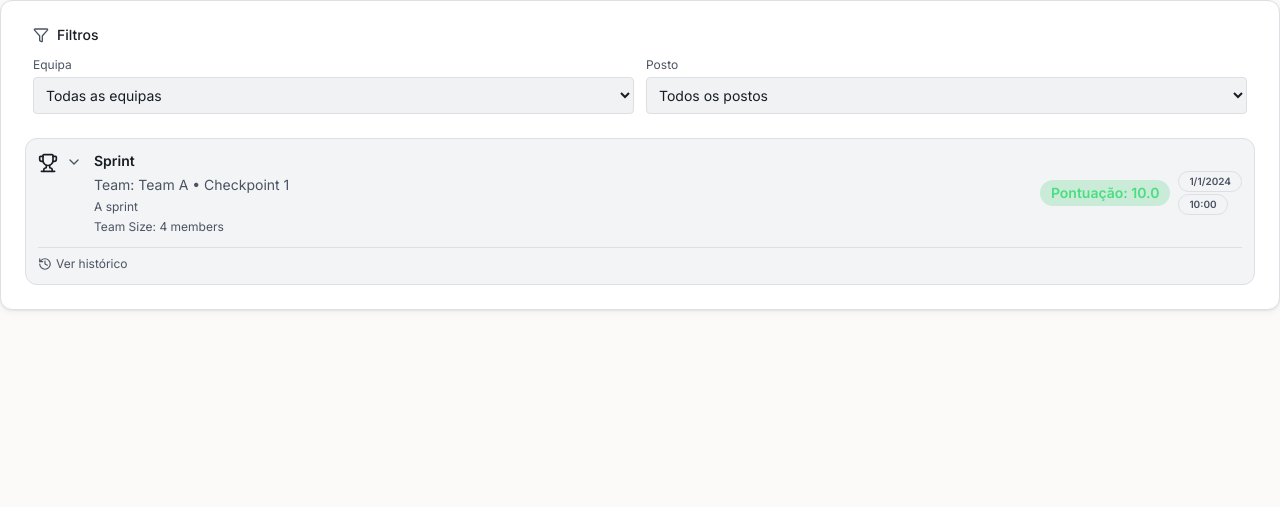
AllEvaluations › renders TeamVsActivity win/lose/draw result badges
What coordinates should you click on to do the following:
click the button "Sprint"
I would click on:
 (114, 160)
Its box is [38,151,1028,235].
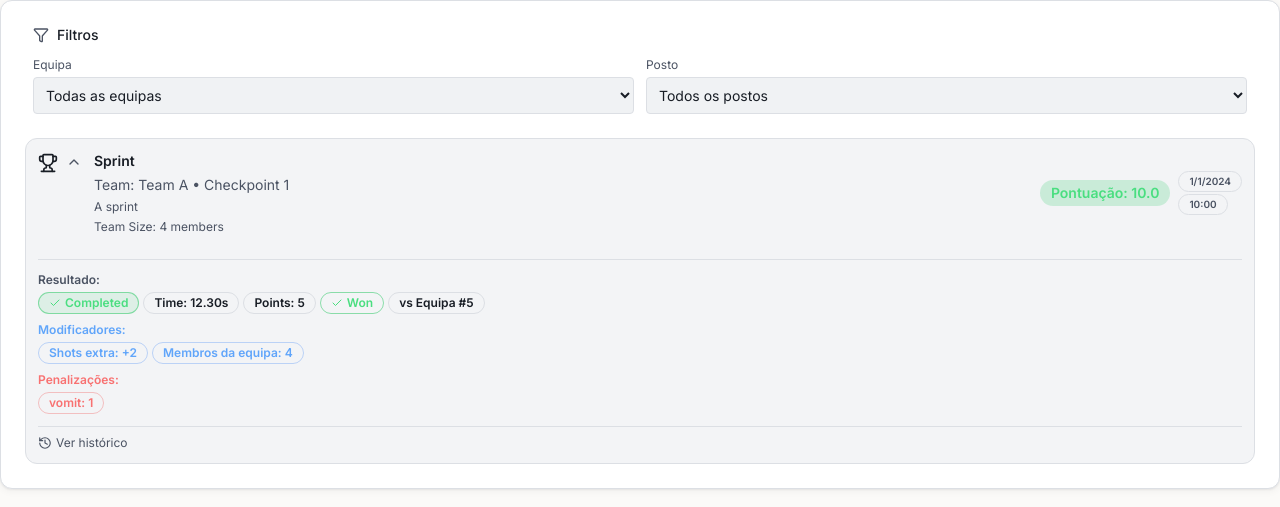
Check: the text "Won" is shown, box [320,292,384,314]
Check: the text "vs Equipa #5" is shown, box [388,292,485,314]
